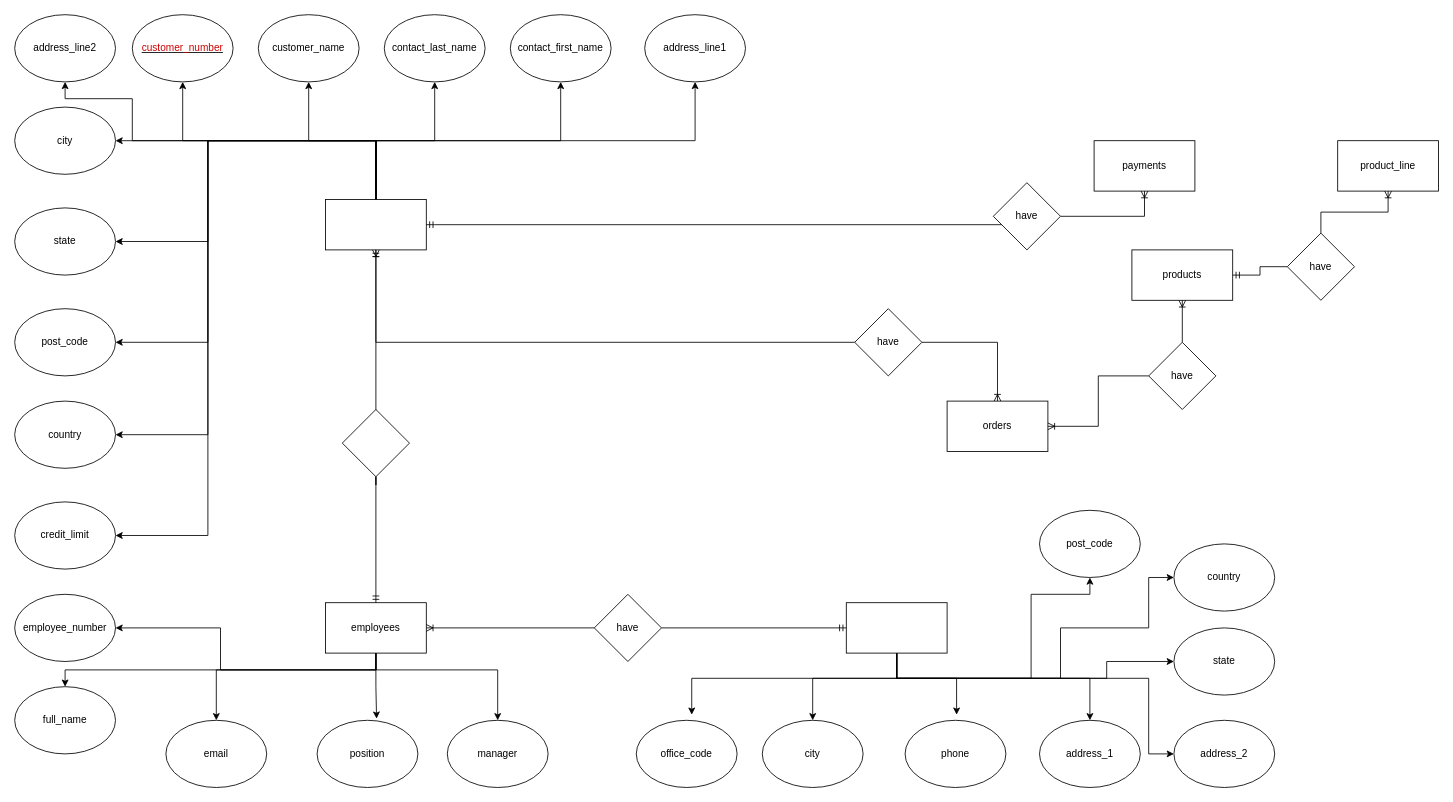
Image size: 1453x802. Some labels were removed from this diagram. Here are the shapes that lost their labels. From the top down, the centre of each, then its label:
At point (375, 224): "customers".
At point (375, 443): "take care of".
At point (896, 627): "offices".
